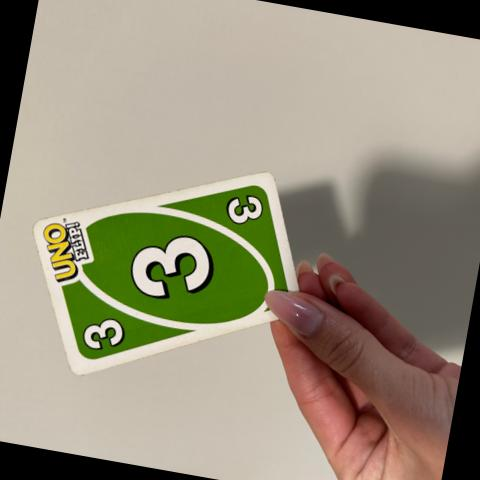9_yellow: (131, 237, 217, 298), (79, 320, 125, 350), (221, 197, 265, 224)
